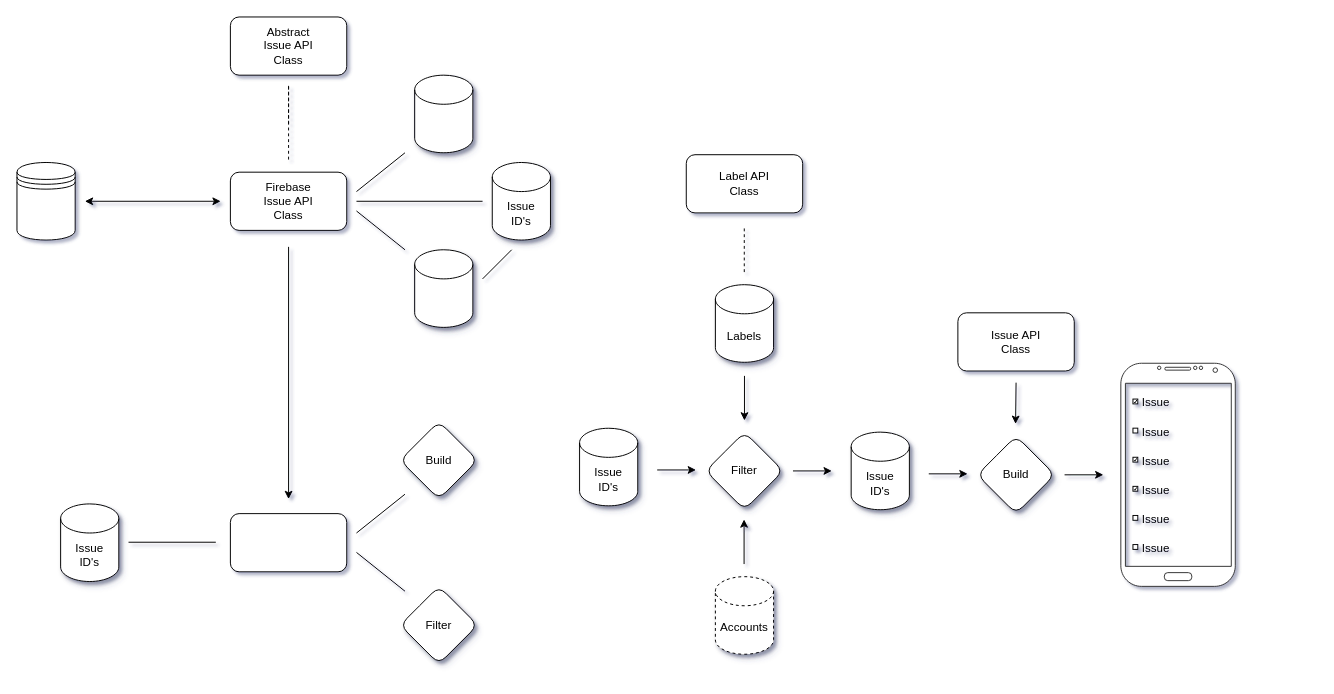
This 1334x694 diagram has some shape labels left out. Each missing label, with the centre of its shape:
Firebase DB: (x=45, y=201)
Issue Buffer Class: (x=288, y=542)
Issue Pool: (x=444, y=115)
Views: (x=444, y=289)
